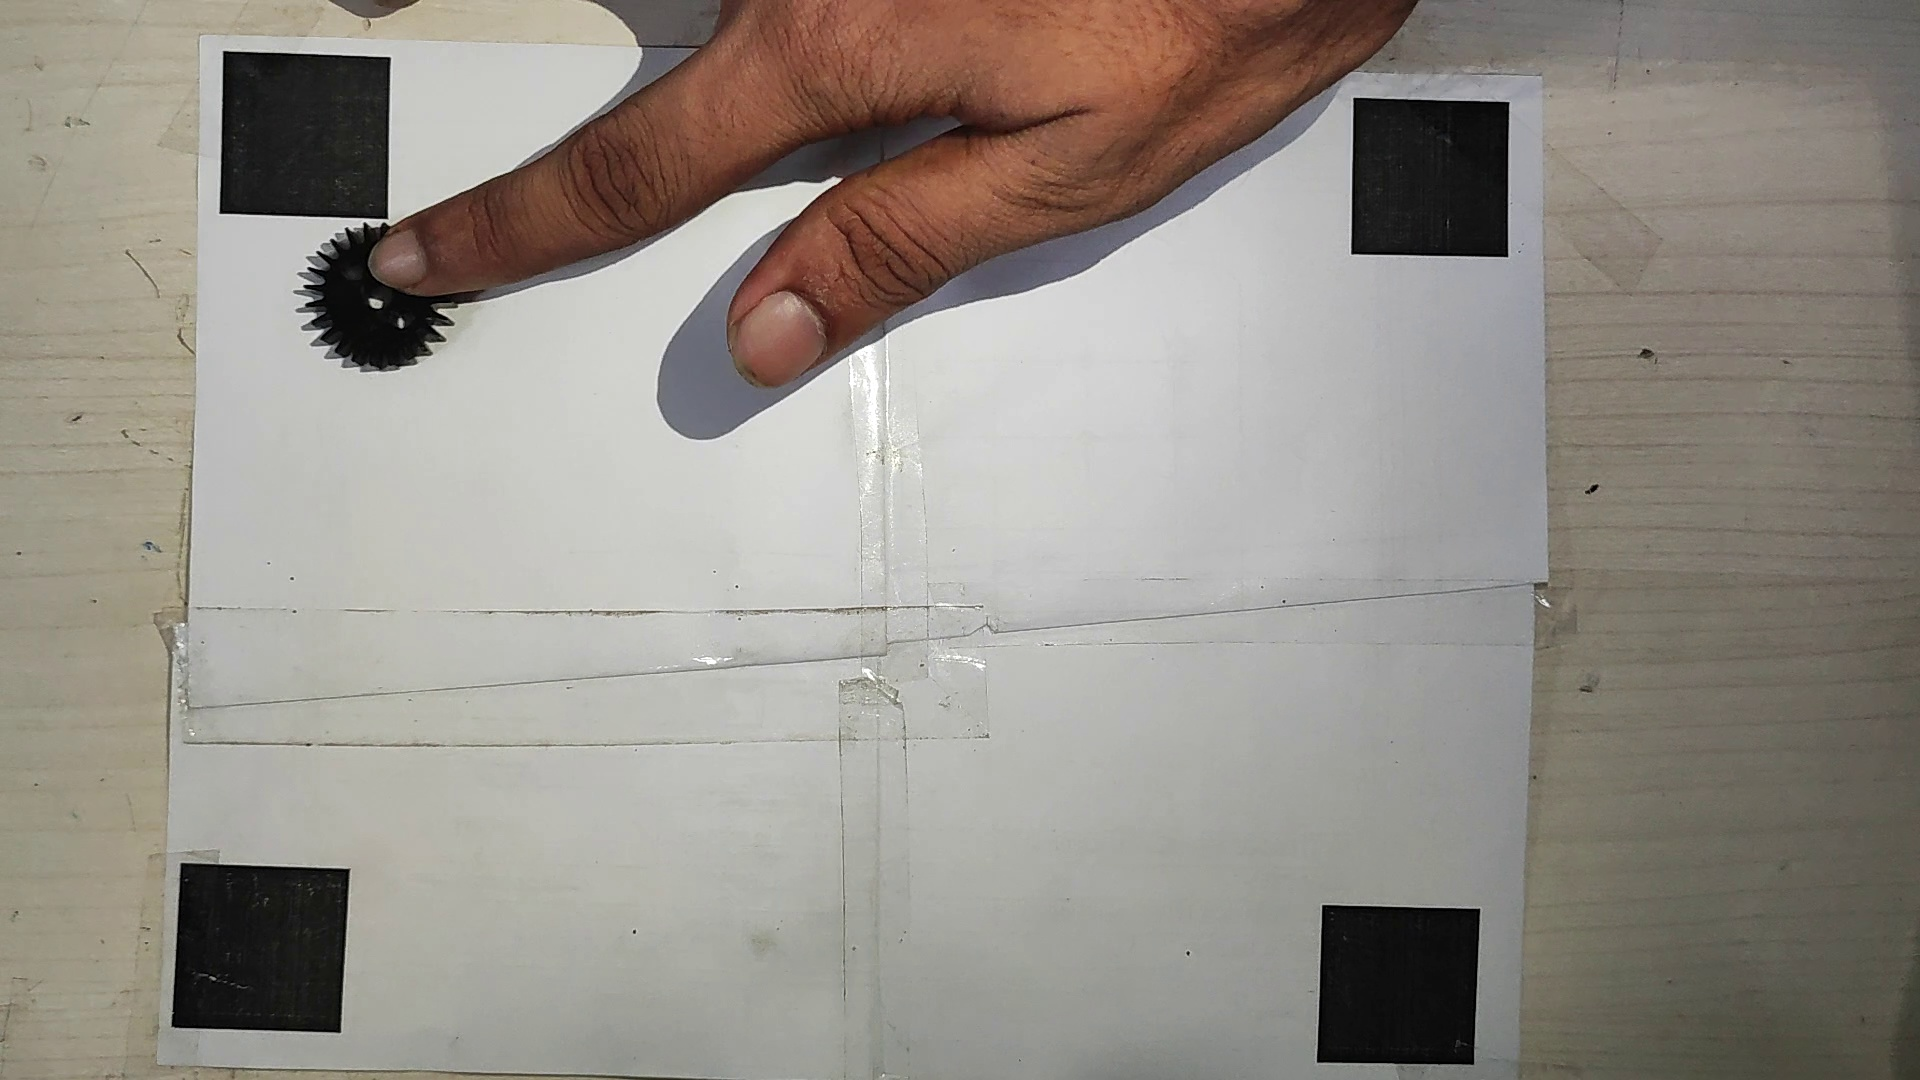Gear: (292, 215, 458, 376)
